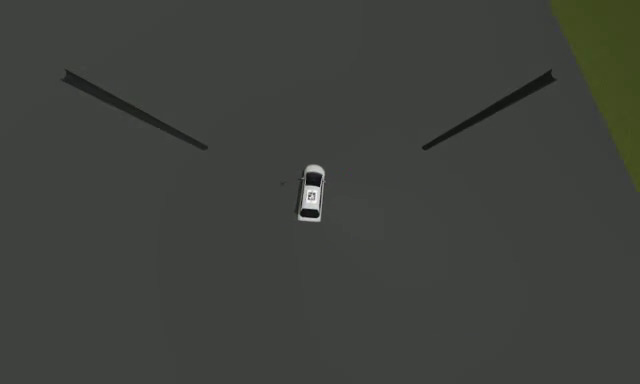Car: (295, 162, 327, 223)
Landing Pad: (305, 189, 319, 206)
